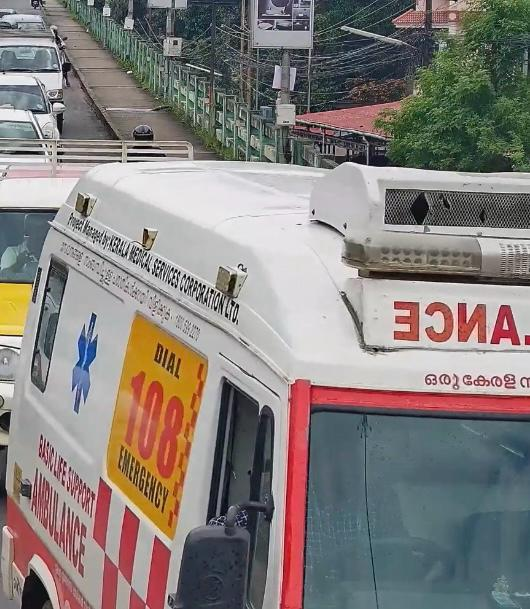ambulance: (7, 150, 529, 605)
